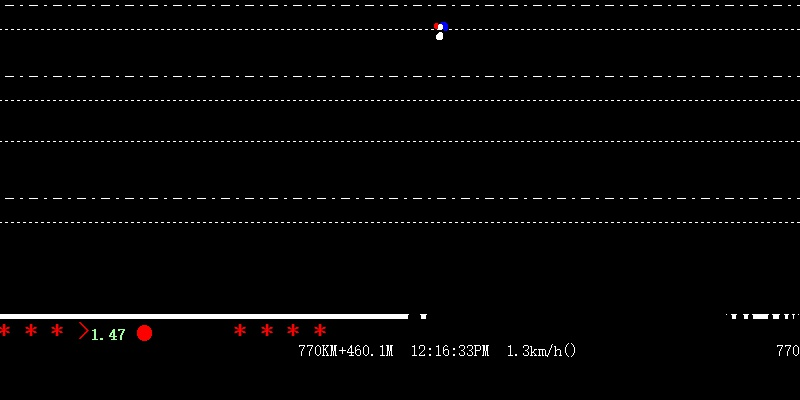circle: (134, 322, 153, 342)
face_2: (431, 20, 449, 31)
star: (259, 322, 276, 340), (284, 320, 300, 339), (49, 320, 65, 339), (313, 322, 328, 339), (24, 322, 38, 340), (232, 321, 248, 336)
